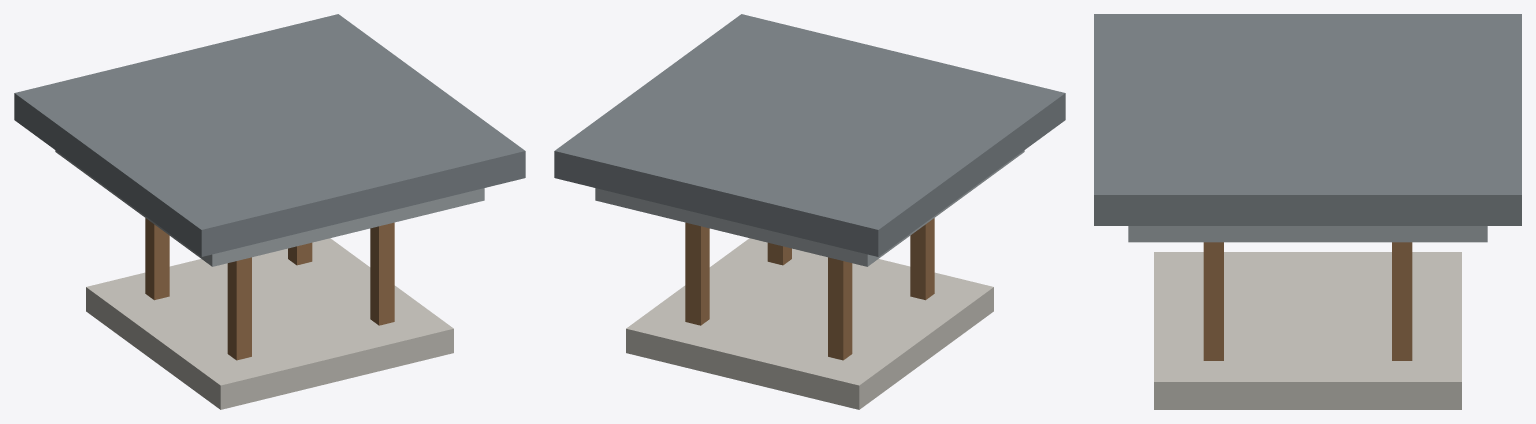
The model's file is voxel-shandong-pavilion.gltf.
3 renders of one model, left to right at view 1: azimuth 30°, elevation 25°; view 2: azimuth 150°, elevation 25°; view 3: azimuth 270°, elevation 25°, orthographic. The views are drawn at different scales.
Bounding box in the file's own units: 2.5 × 1.55 × 2.5.
